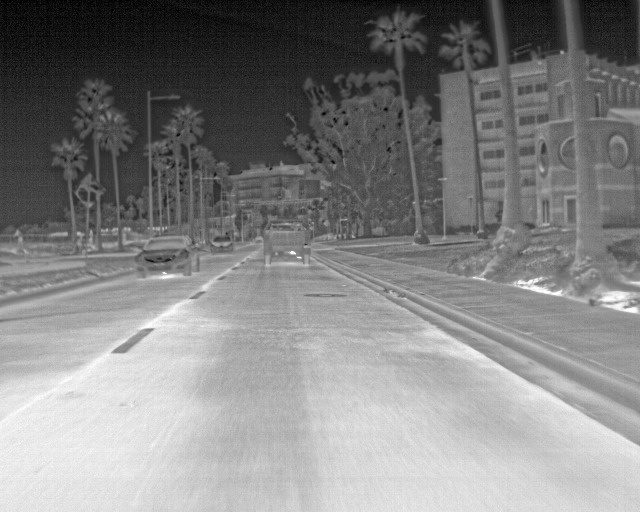vehicle: (136, 233, 202, 282), (263, 220, 312, 268), (210, 233, 235, 252)
